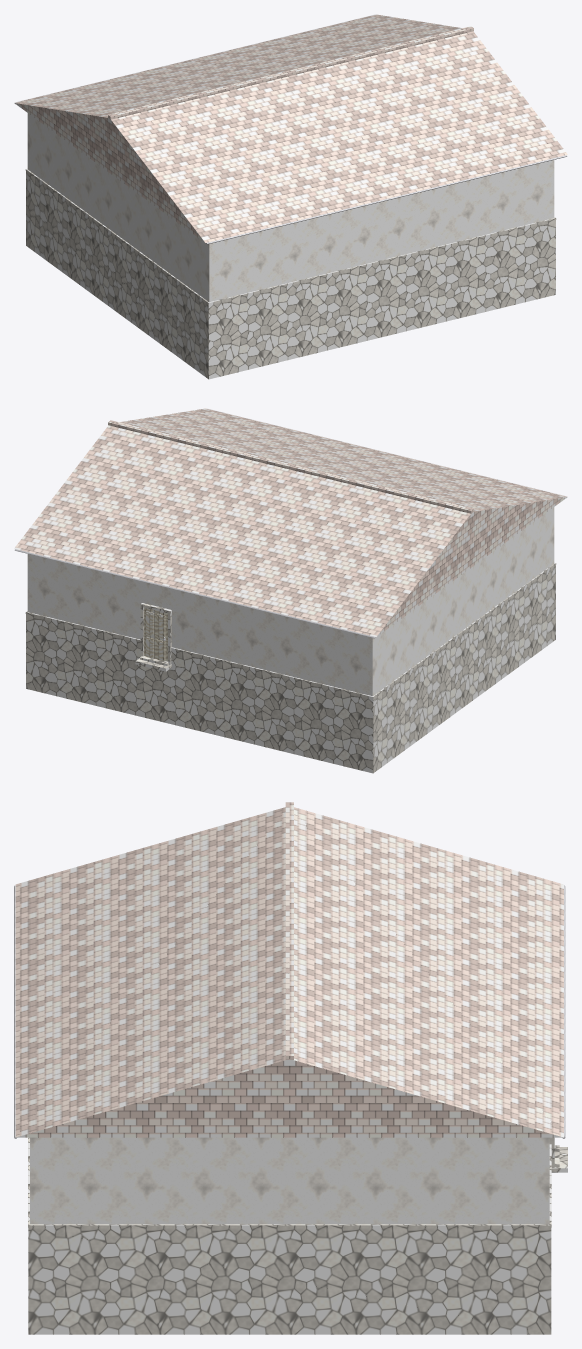
3 renders of one model, top to bottom at view 1: azimuth 30°, elevation 25°; view 2: azimuth 150°, elevation 25°; view 3: azimuth 270°, elevation 25°, orthographic. The views are drawn at different scales.
Parts seen in each view (by area): view 1: b1086637701; view 2: b1086637701; view 3: b1086637701.
Part boxes in pixels (x1,y1,x2,y2): b1086637701: (14,14,567,379); b1086637701: (14,408,567,773); b1086637701: (14,802,567,1334).
Bounding box in the file's own units: 14.7 × 7.68 × 13.56.
11 materials, 11 textured.
